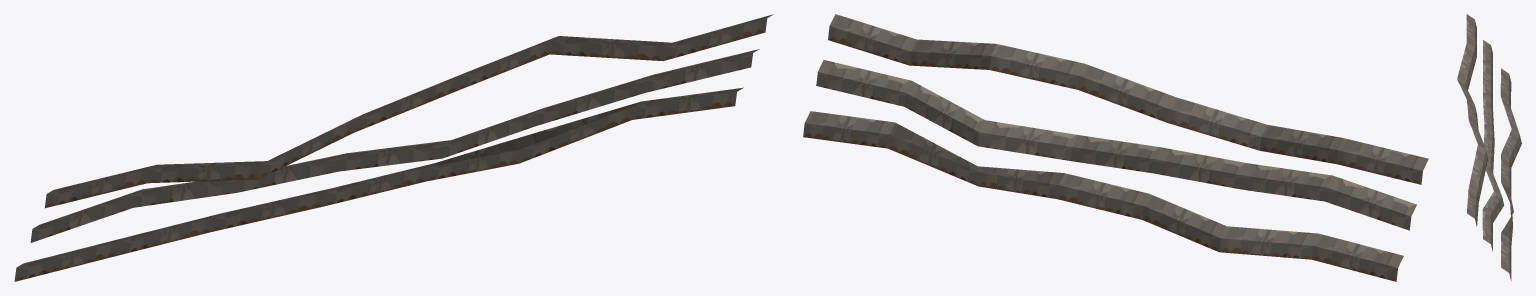
The model's file is SM_Prop_Fence_02_Wire_01_275.obj.
3 renders of one model, left to right at view 1: azimuth 30°, elevation 25°; view 2: azimuth 150°, elevation 25°; view 3: azimuth 270°, elevation 25°, orthographic. The views are drawn at different scales.
Parts seen in each view (by area): view 1: SM_Prop_Fence_02_Wire_01_0; view 2: SM_Prop_Fence_02_Wire_01_0; view 3: SM_Prop_Fence_02_Wire_01_0.
Boxes of the visible parts, left/top/right/bottom form: SM_Prop_Fence_02_Wire_01_0: left=14, top=14, right=773, bottom=281; SM_Prop_Fence_02_Wire_01_0: left=803, top=14, right=1428, bottom=281; SM_Prop_Fence_02_Wire_01_0: left=1457, top=14, right=1521, bottom=280.
Bounding box in the file's own units: 2.32 × 0.4589 × 0.3191.
1 material, 1 textured.
